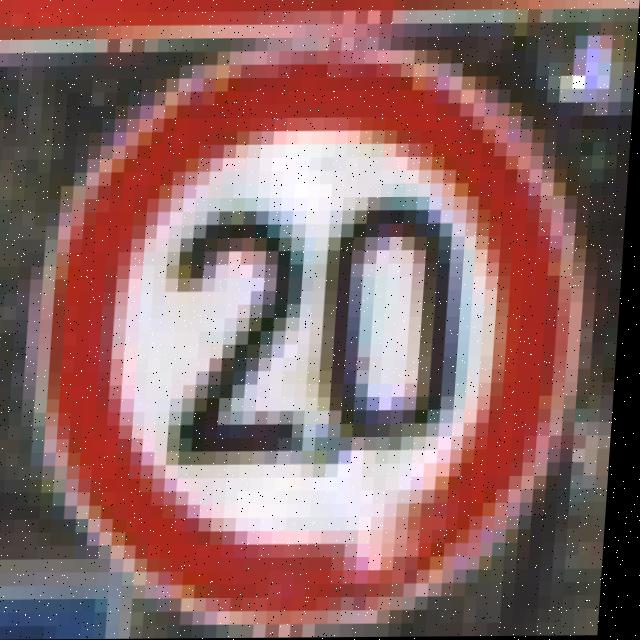speed_limit_20: (0, 48, 609, 631)
